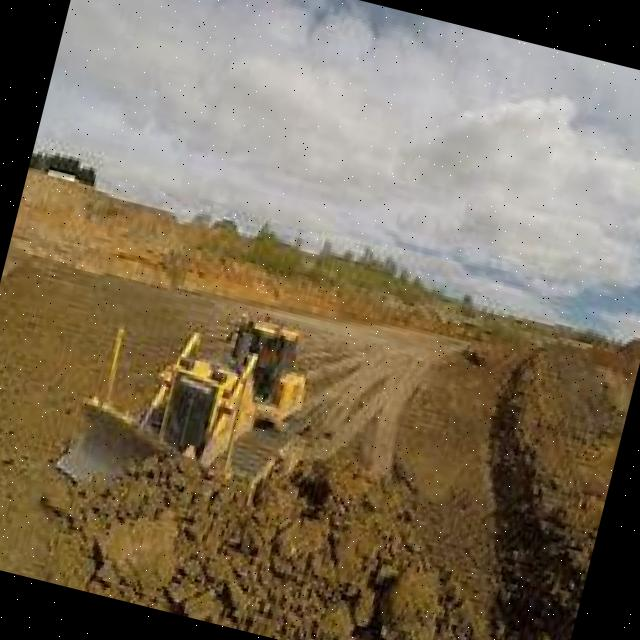Bulldozer: (27, 254, 339, 570)
